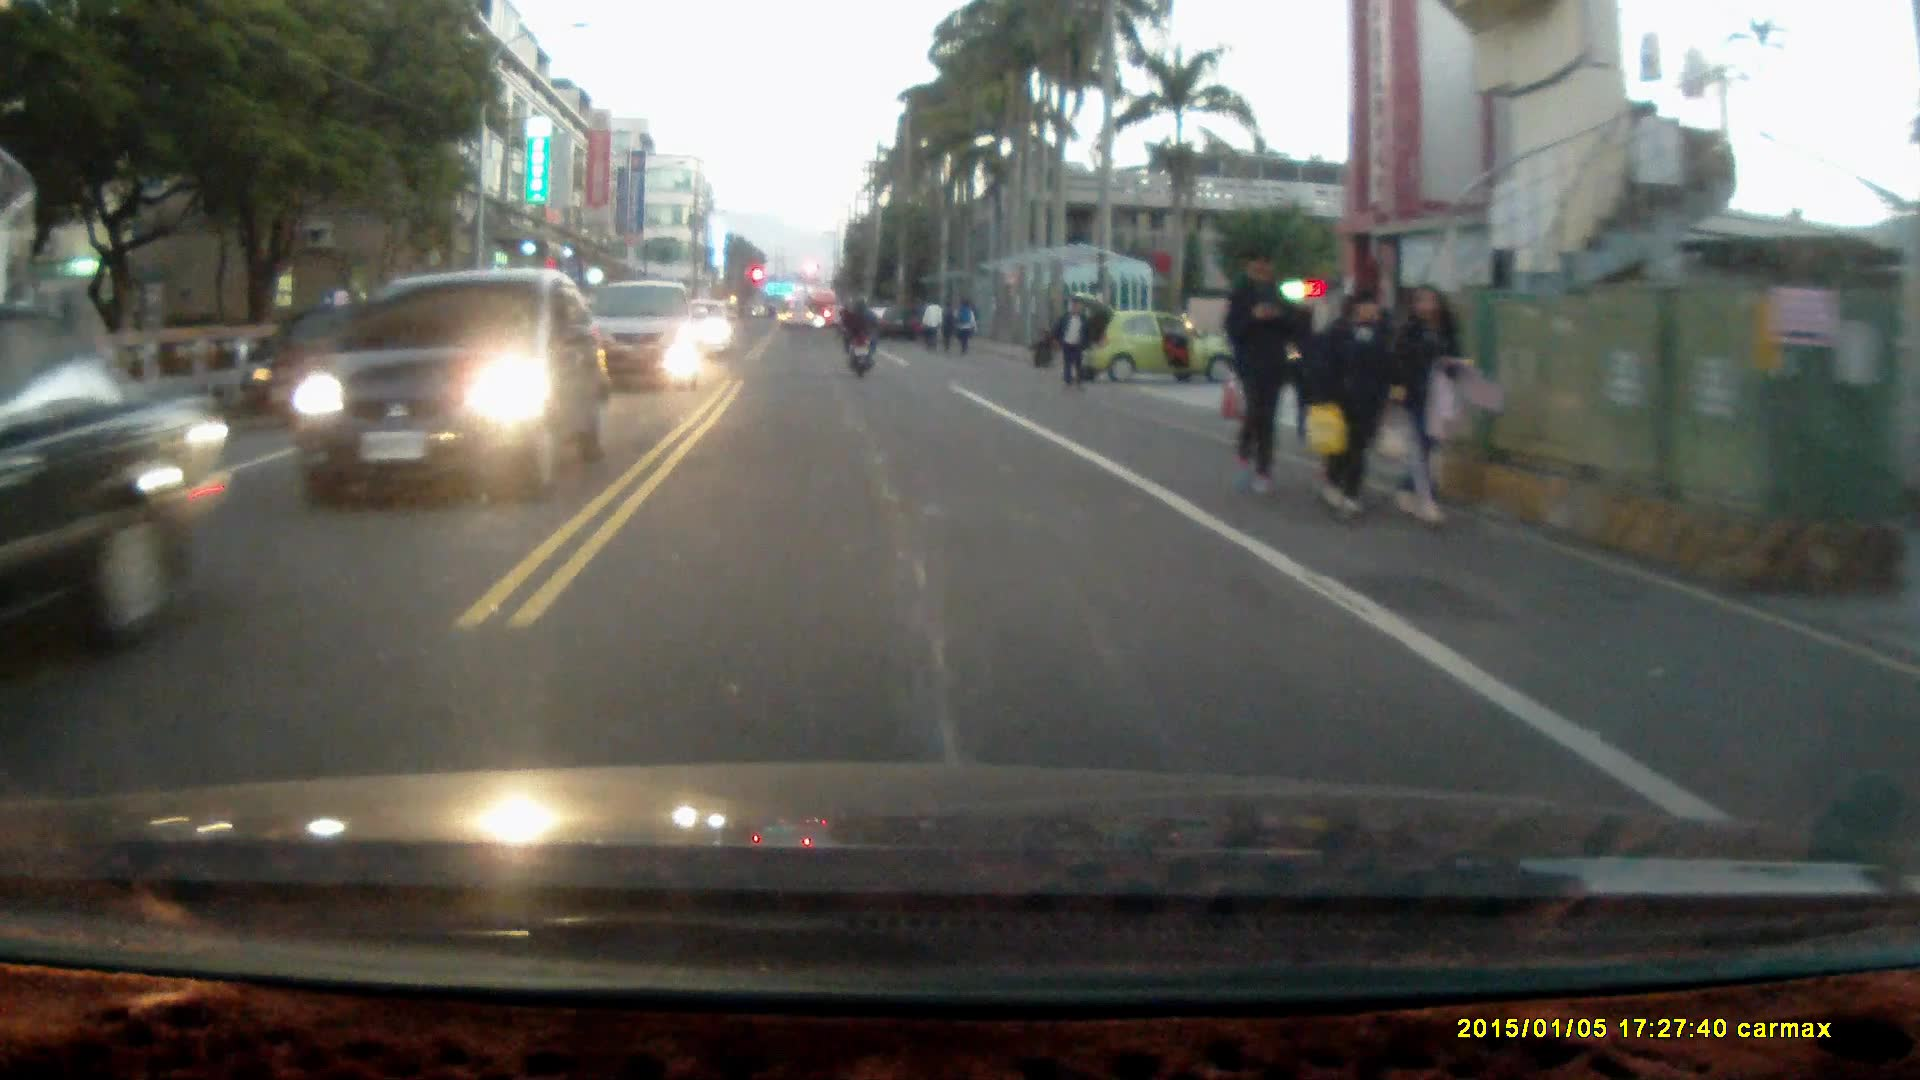pedestrian: (1296, 281, 1386, 520), (1386, 276, 1467, 530), (1224, 244, 1303, 501), (1054, 293, 1091, 393), (1025, 323, 1055, 369)
rider: (838, 292, 879, 380)
vehicle: (1, 302, 233, 642), (299, 268, 608, 501), (1066, 285, 1230, 379), (575, 278, 706, 388)
